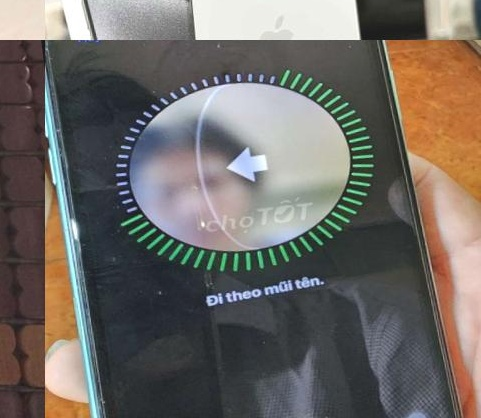scratch: (58, 209, 97, 326), (82, 369, 127, 418), (45, 96, 68, 177)
